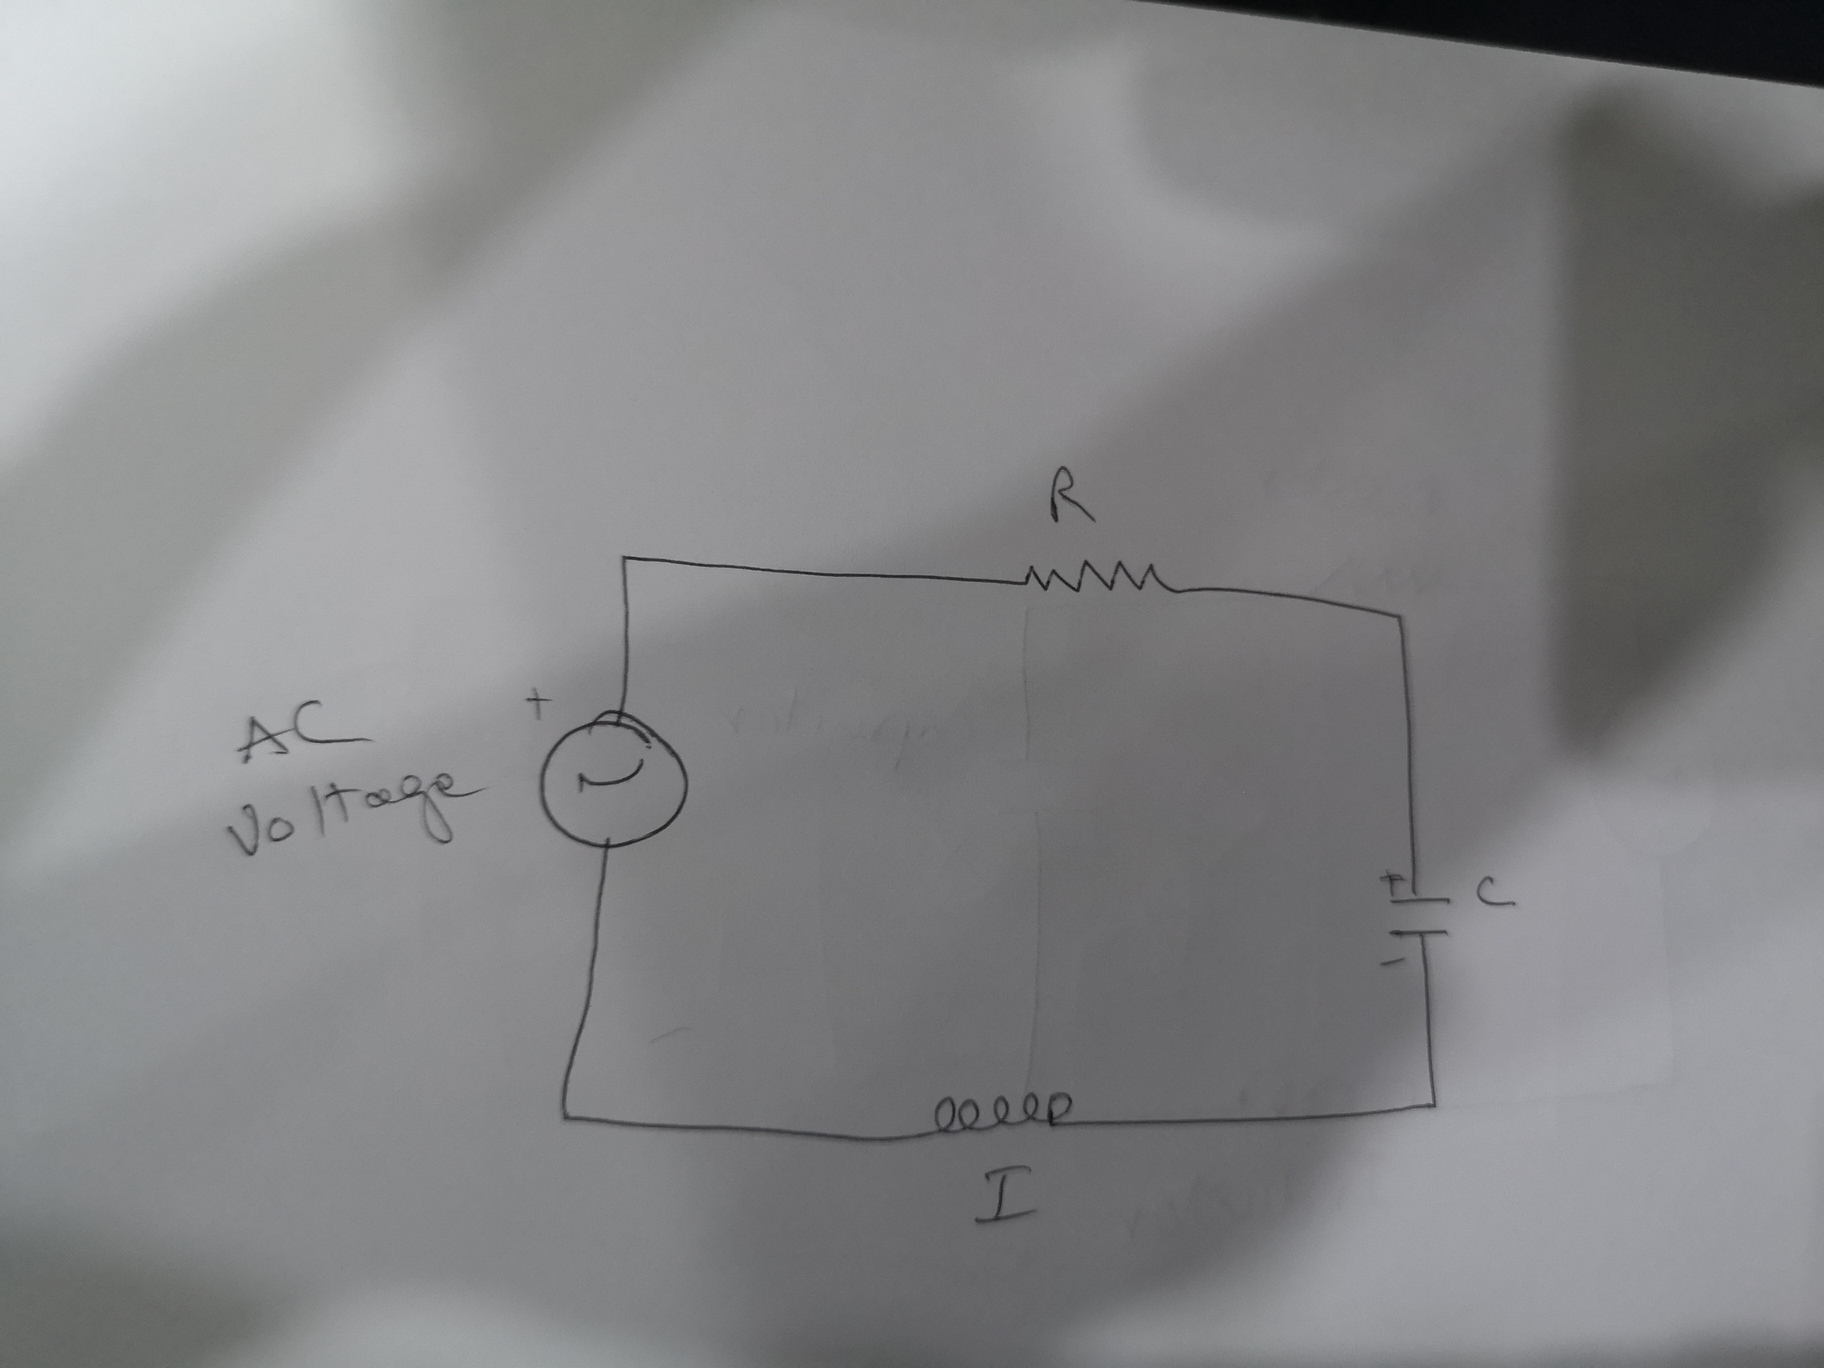capacitor.polarized: (1372, 865, 1461, 974)
inductor: (926, 1083, 1077, 1142)
junction: (1418, 1089, 1449, 1118), (1383, 604, 1412, 634), (610, 545, 641, 573), (550, 1101, 579, 1129)
resistor: (1018, 553, 1175, 599)
text: (221, 757, 495, 864), (223, 690, 381, 769), (974, 1165, 1048, 1227), (1046, 458, 1100, 530), (1471, 872, 1518, 915)
voltage.dc: (521, 683, 697, 855)
